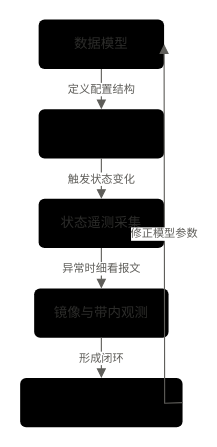
The diagram is 217 pixels wide and 447 high, and some of its shapes have lost their labels. Here are the shapes that lost their labels. From the top down, the centre of each, then its label:
point (101, 133): 配置下发接口
point (101, 402): 异常定位与参数回调
